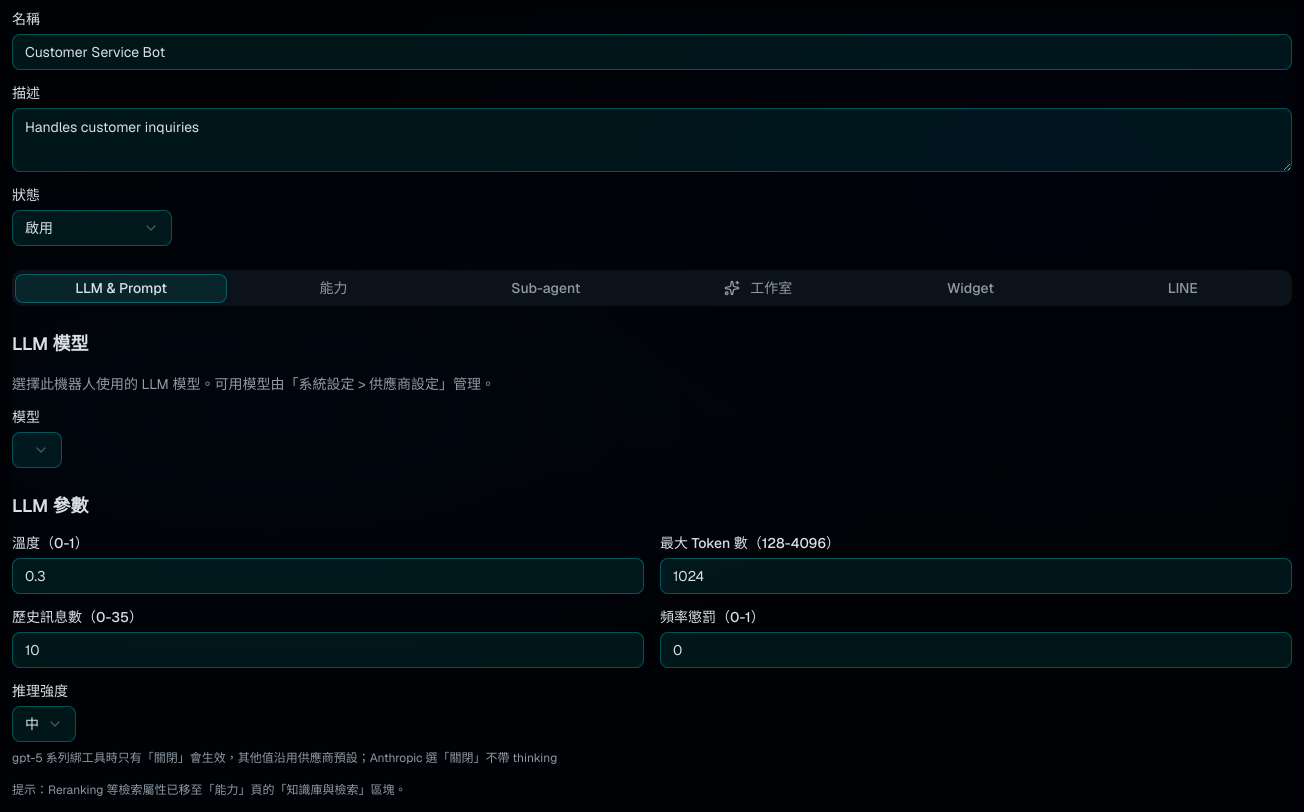
Test: BotDetailForm › should render Widget tab content without avatar section
Click the tab "Widget".
click(970, 288)  # box top-left (864, 274), bottom-right (1077, 302)
(page scrolled)
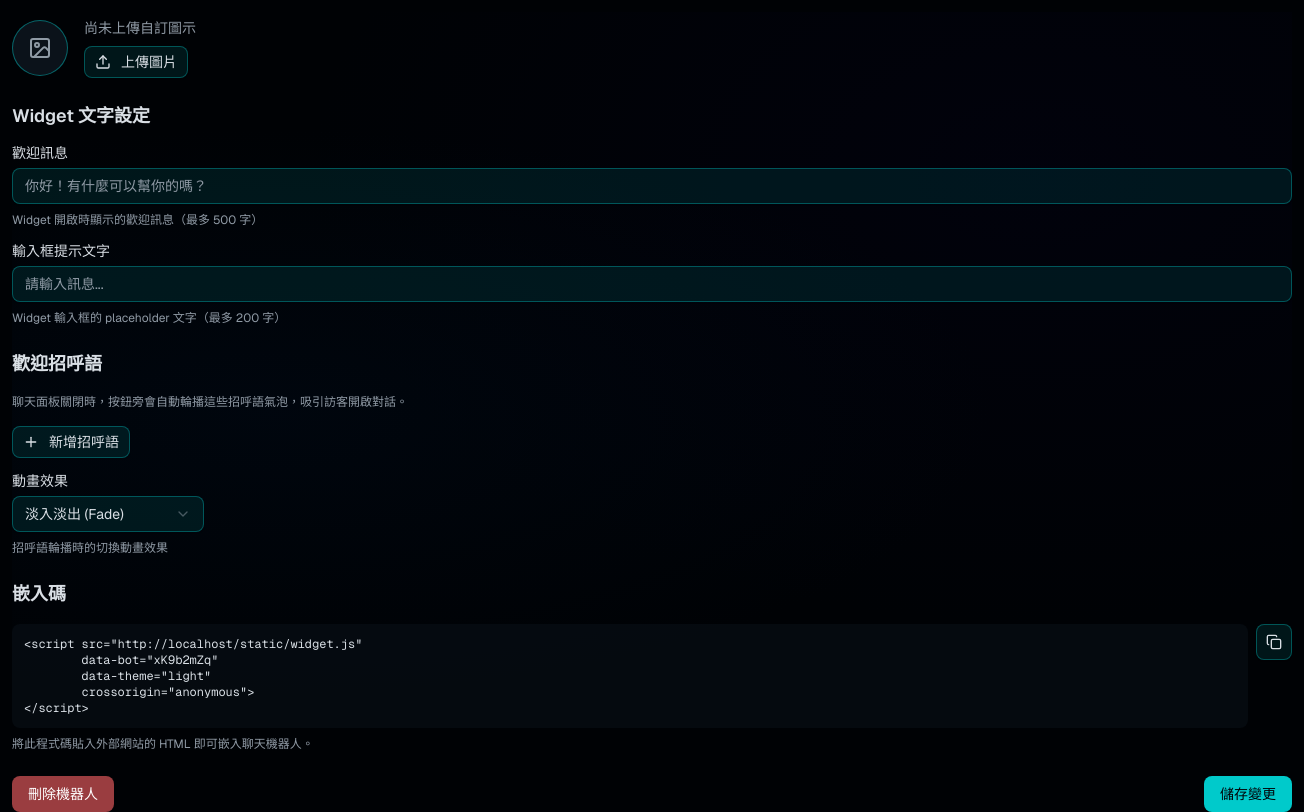
expect the heading "Widget 文字設定" is shown: met, box top-left (12, 104), bottom-right (150, 127)
expect the heading "嵌入碼" is shown: met, box top-left (12, 582), bottom-right (66, 605)
